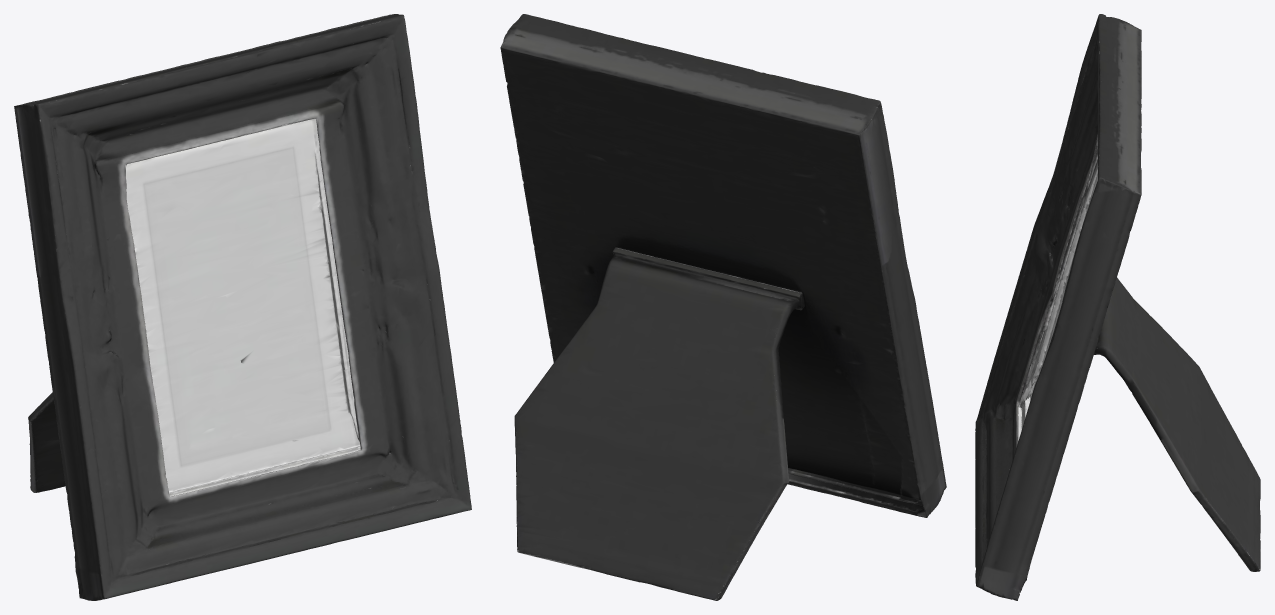
File: photoframe.glb
3 renders of one model, left to right at view 1: azimuth 30°, elevation 25°; view 2: azimuth 150°, elevation 25°; view 3: azimuth 270°, elevation 25°, orthographic. The views are drawn at different scales.
Size of the model in its own units: 1.58 by 1.9 by 1.14.
1 material, 1 textured.
